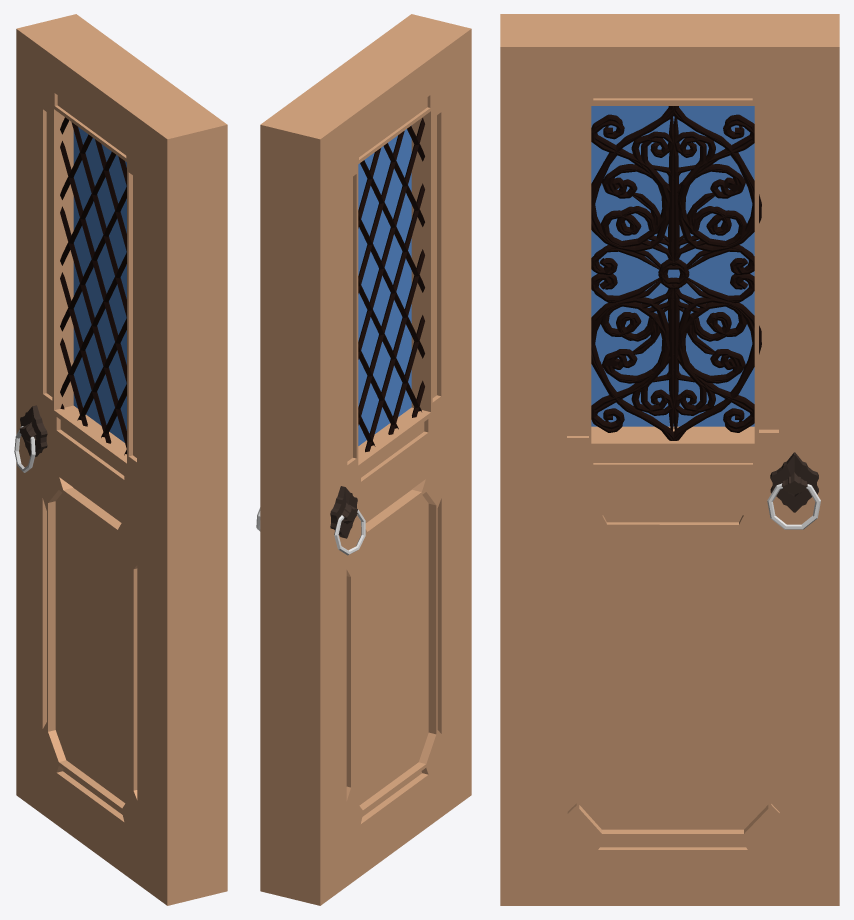
The model's file is Arch_Door_Mesh.fbx.
The picture shows the model from 3 angles, left to right: view 1: azimuth 30°, elevation 25°; view 2: azimuth 150°, elevation 25°; view 3: azimuth 270°, elevation 25°; orthographic projection. The views are drawn at different scales.
Parts seen in each view (by area): view 1: DoorBody.001, Doorhandle.004; view 2: DoorBody.001, Doorhandle.004; view 3: DoorBody.001, Doorhandle.002.
Boxes of the visible parts, <box> form: DoorBody.001: <box>16,14,227,905</box>; Doorhandle.004: <box>14,405,47,472</box>; DoorBody.001: <box>260,14,471,905</box>; Doorhandle.004: <box>330,486,365,555</box>; DoorBody.001: <box>500,14,839,905</box>; Doorhandle.002: <box>767,452,820,529</box>.
Bounding box in the file's own units: 32.87 × 262 × 93.58.
